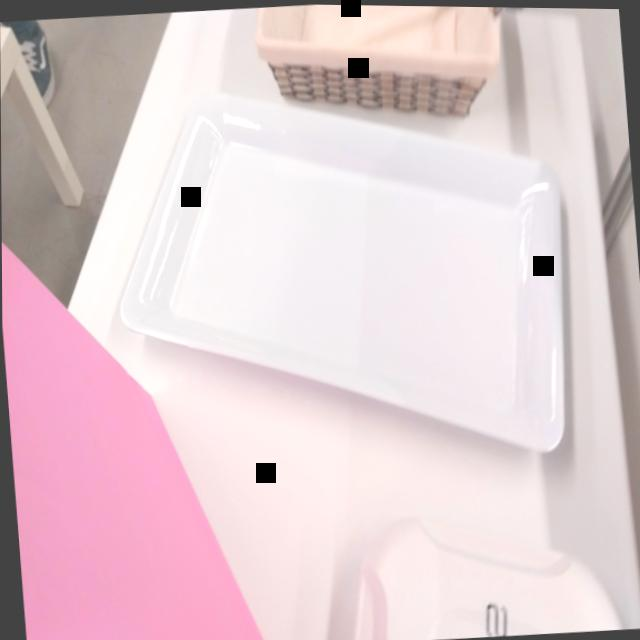tray: (102, 67, 586, 486)
